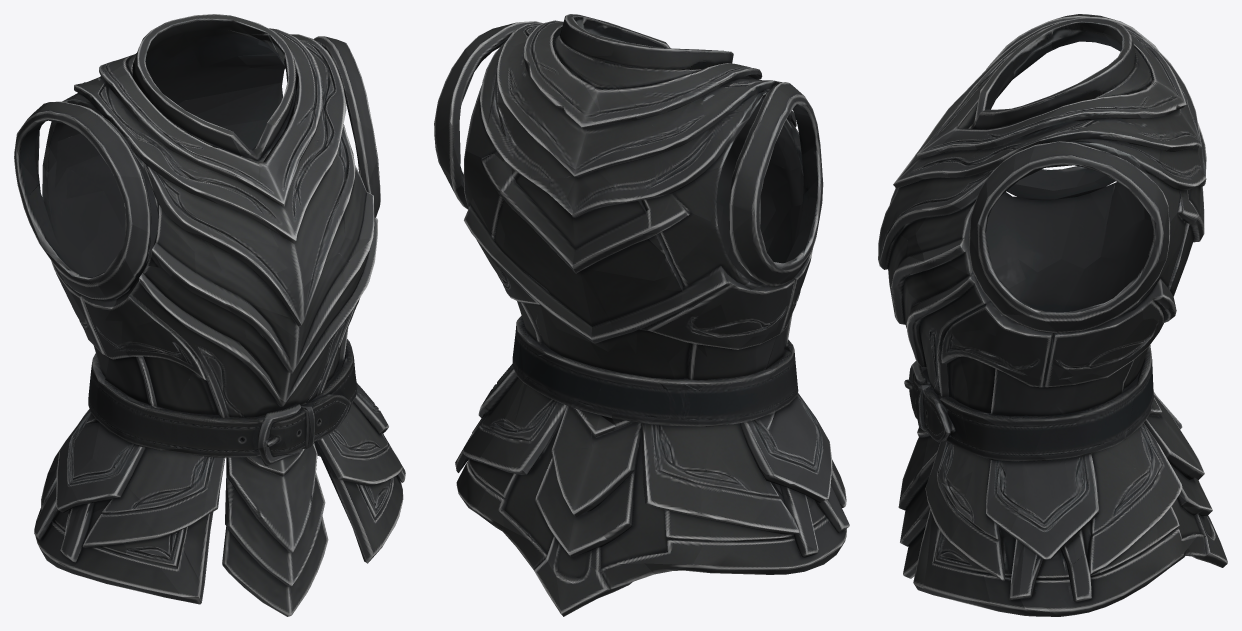
Rendered from darkplate_chest.glb.
The picture shows the model from 3 angles, left to right: view 1: azimuth 30°, elevation 25°; view 2: azimuth 150°, elevation 25°; view 3: azimuth 270°, elevation 25°; orthographic projection. The views are drawn at different scales.
Visible parts, largest first — view 1: Mesh_0; view 2: Mesh_0; view 3: Mesh_0.
Boxes of the visible parts, left/top/right/bottom form: Mesh_0: left=14, top=14, right=405, bottom=616; Mesh_0: left=434, top=14, right=849, bottom=616; Mesh_0: left=878, top=14, right=1227, bottom=616.
Bounding box in the file's own units: 1.31 × 1.9 × 1.12.
1 material, 1 textured.
